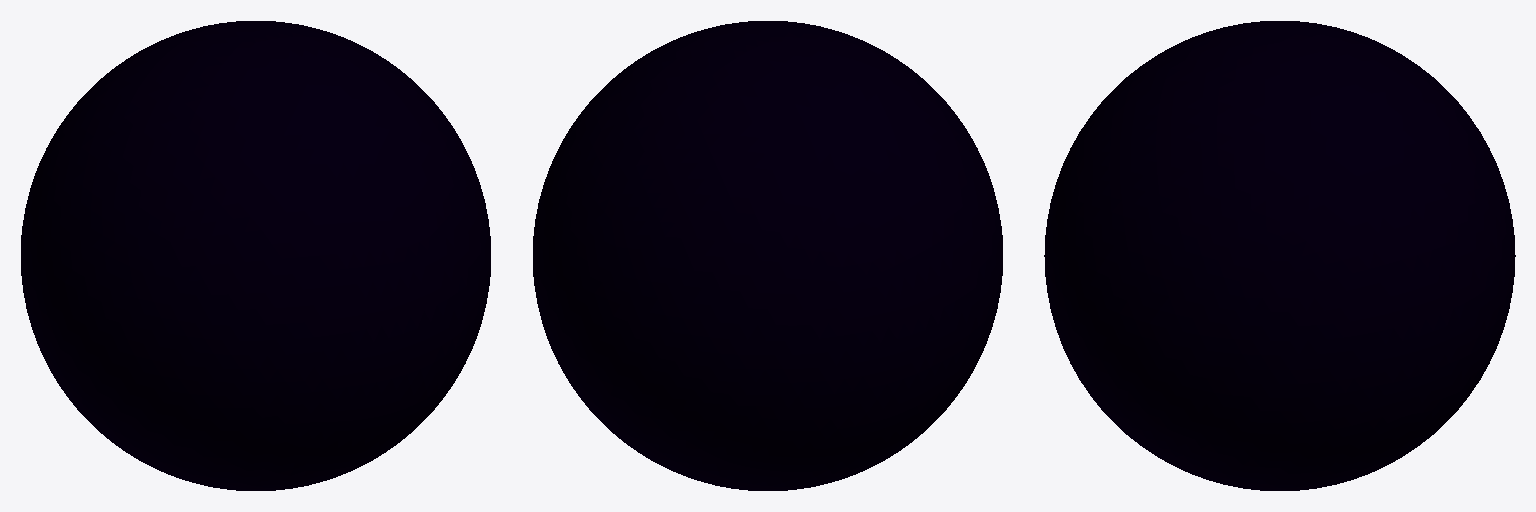
The model's file is planet.obj.
3 renders of one model, left to right at view 1: azimuth 30°, elevation 25°; view 2: azimuth 150°, elevation 25°; view 3: azimuth 270°, elevation 25°, orthographic.
Parts seen in each view (by area): view 1: Icosphere_Icosphere.001; view 2: Icosphere_Icosphere.001; view 3: Icosphere_Icosphere.001.
Part boxes in pixels (bbox=[...]): Icosphere_Icosphere.001: bbox=[21, 21, 490, 490]; Icosphere_Icosphere.001: bbox=[533, 21, 1002, 490]; Icosphere_Icosphere.001: bbox=[1044, 21, 1515, 490].
Bounding box in the file's own units: 4.28 × 4.28 × 4.28.